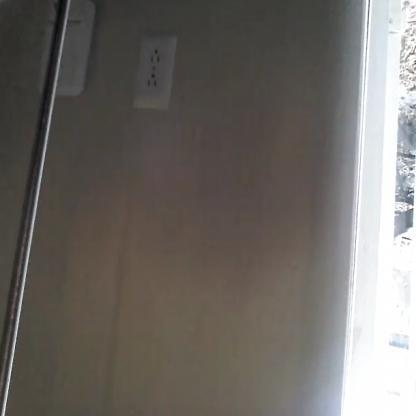OUTLET: (135, 35, 175, 110)
